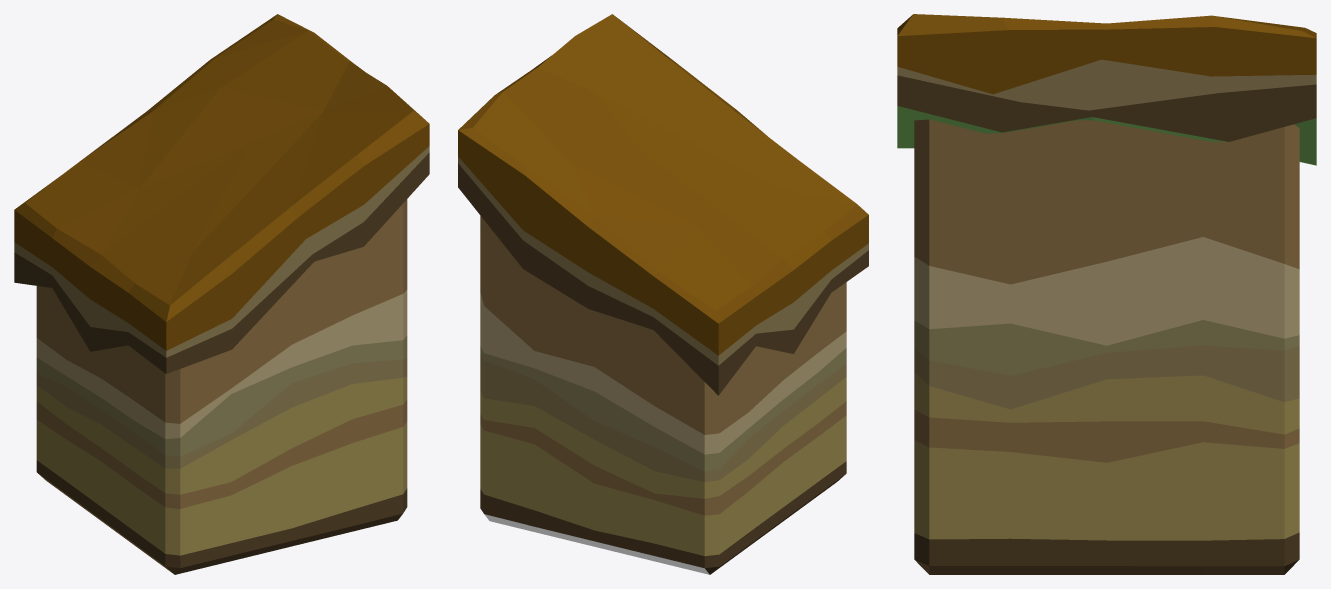
File: Runestrife-Land-Dirt-Slope.fbx
3 views of the same model, side by side, from view 1: azimuth 30°, elevation 25°; view 2: azimuth 150°, elevation 25°; view 3: azimuth 270°, elevation 25° (orthographic). The views are drawn at different scales.
Parts seen in each view (by area): view 1: Cube.001; view 2: Cube.001; view 3: Cube.001.
Part boxes in pixels (x1,y1,x2,y2): Cube.001: [14, 14, 429, 574]; Cube.001: [458, 14, 868, 574]; Cube.001: [897, 14, 1316, 574].
Bounding box in the file's own units: 300 × 448 × 300.
